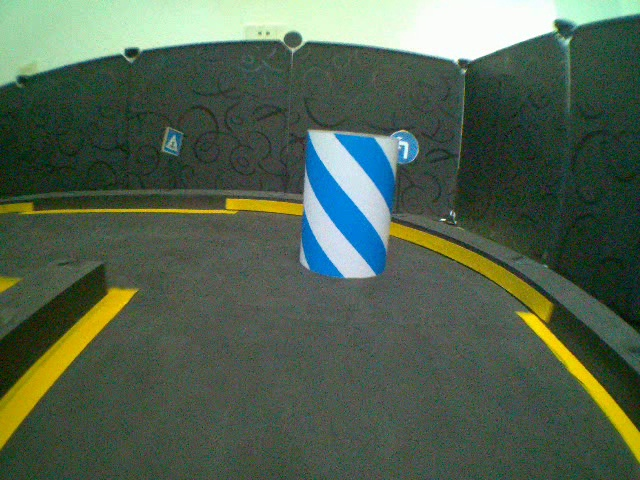bucket: (296, 123, 400, 283)
